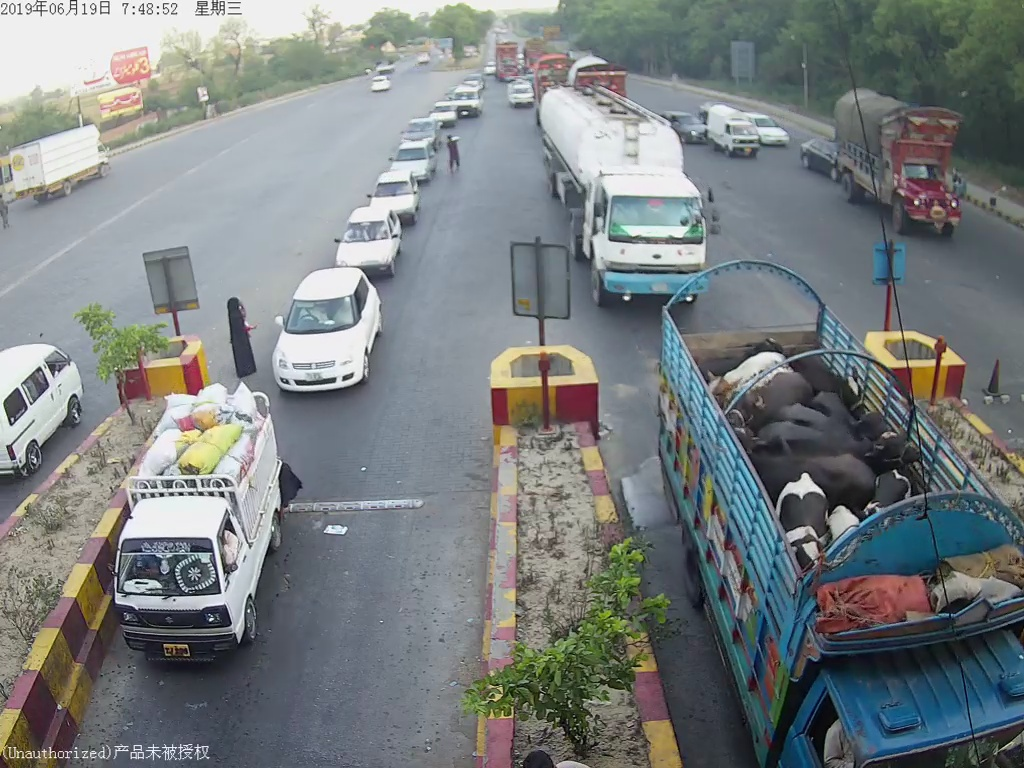Cat-1: (114, 387, 285, 663), (273, 272, 383, 390), (335, 213, 402, 279), (368, 172, 422, 223)
Cat-4: (831, 88, 962, 233)
Cat-5: (538, 81, 712, 306)
